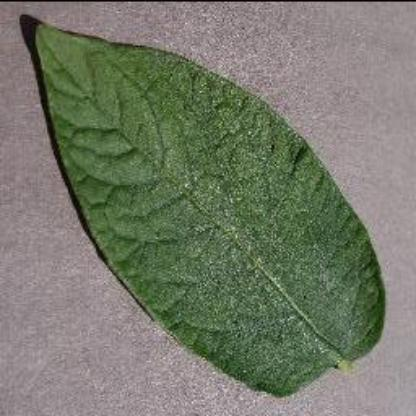Healthy-plant: (20, 14, 396, 398)
